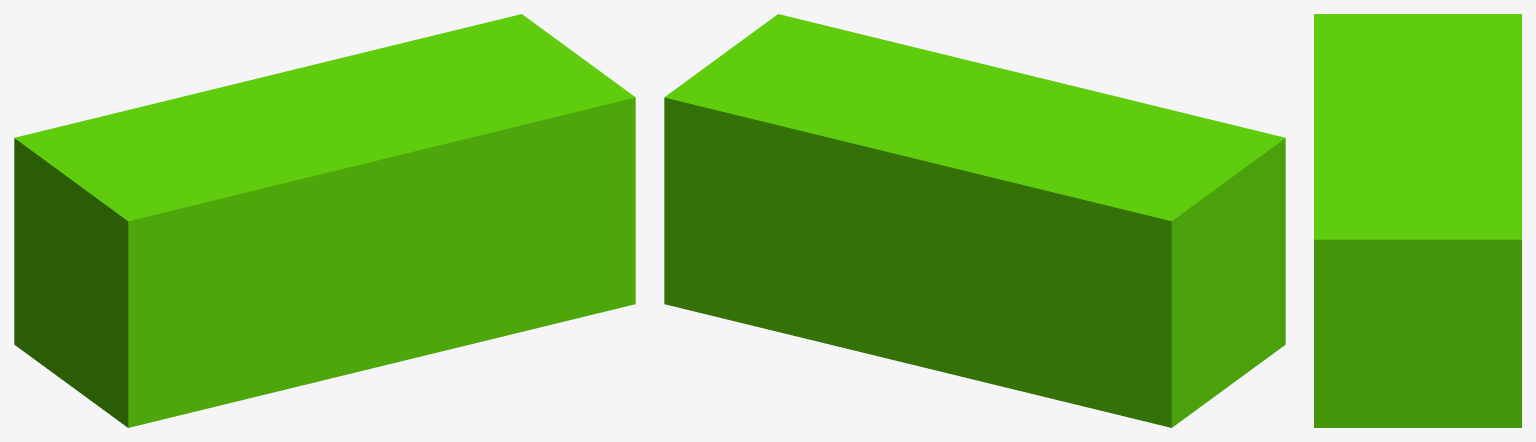
File: TestCube01.fbx
The picture shows the model from 3 angles, left to right: view 1: azimuth 30°, elevation 25°; view 2: azimuth 150°, elevation 25°; view 3: azimuth 270°, elevation 25°; orthographic projection. The views are drawn at different scales.
Visible parts, largest first — view 1: Test_Light_Cube01; view 2: Test_Light_Cube01; view 3: Test_Light_Cube01.
Boxes of the visible parts, <box> form: Test_Light_Cube01: <box>14,14,635,427</box>; Test_Light_Cube01: <box>664,14,1285,427</box>; Test_Light_Cube01: <box>1314,14,1521,427</box>.
Size of the model in its own units: 11 by 4.28 by 4.28.
